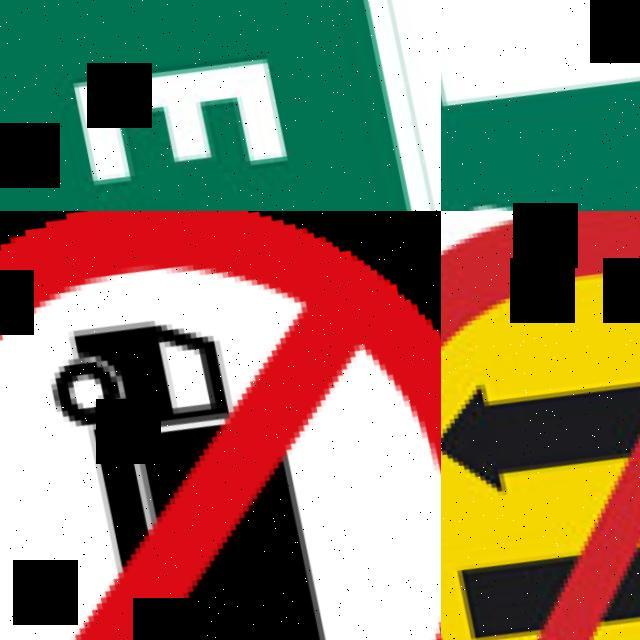172: (0, 0, 441, 211)
No entry for Trucks: (0, 211, 441, 640)
exit: (441, 0, 640, 211)
no u turn: (441, 211, 640, 640)
